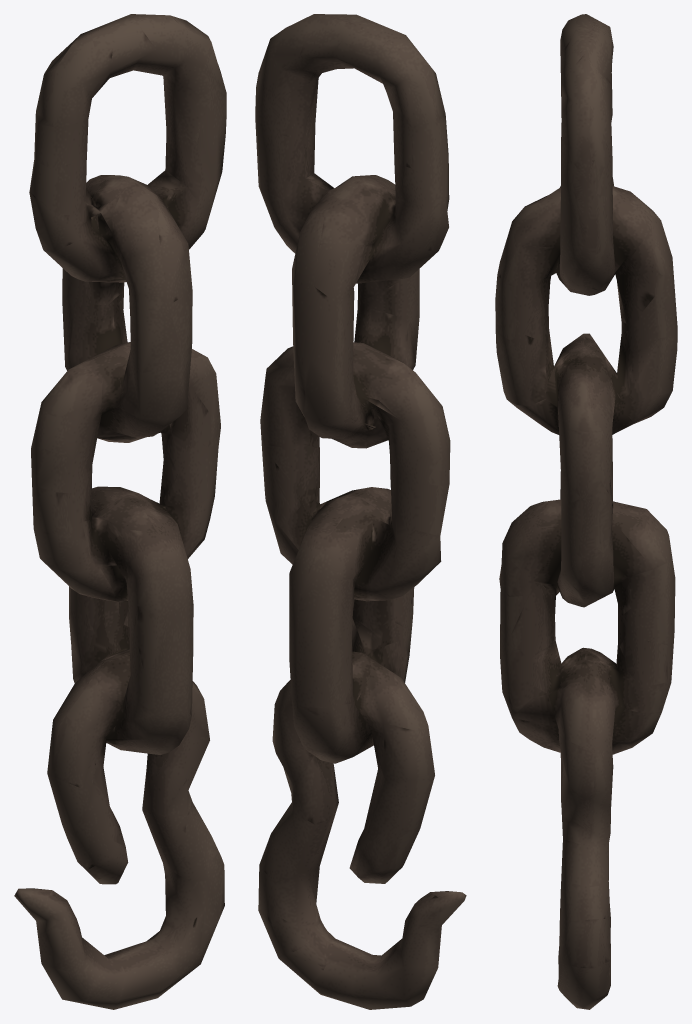
Rendered from iron_chains.glb.
3 views of the same model, side by side, from view 1: azimuth 30°, elevation 25°; view 2: azimuth 150°, elevation 25°; view 3: azimuth 270°, elevation 25° (orthographic).
Bounding box in the file's own units: 0.4409 × 1.99 × 0.3403.
Materials: 1 (1 with a texture image).
